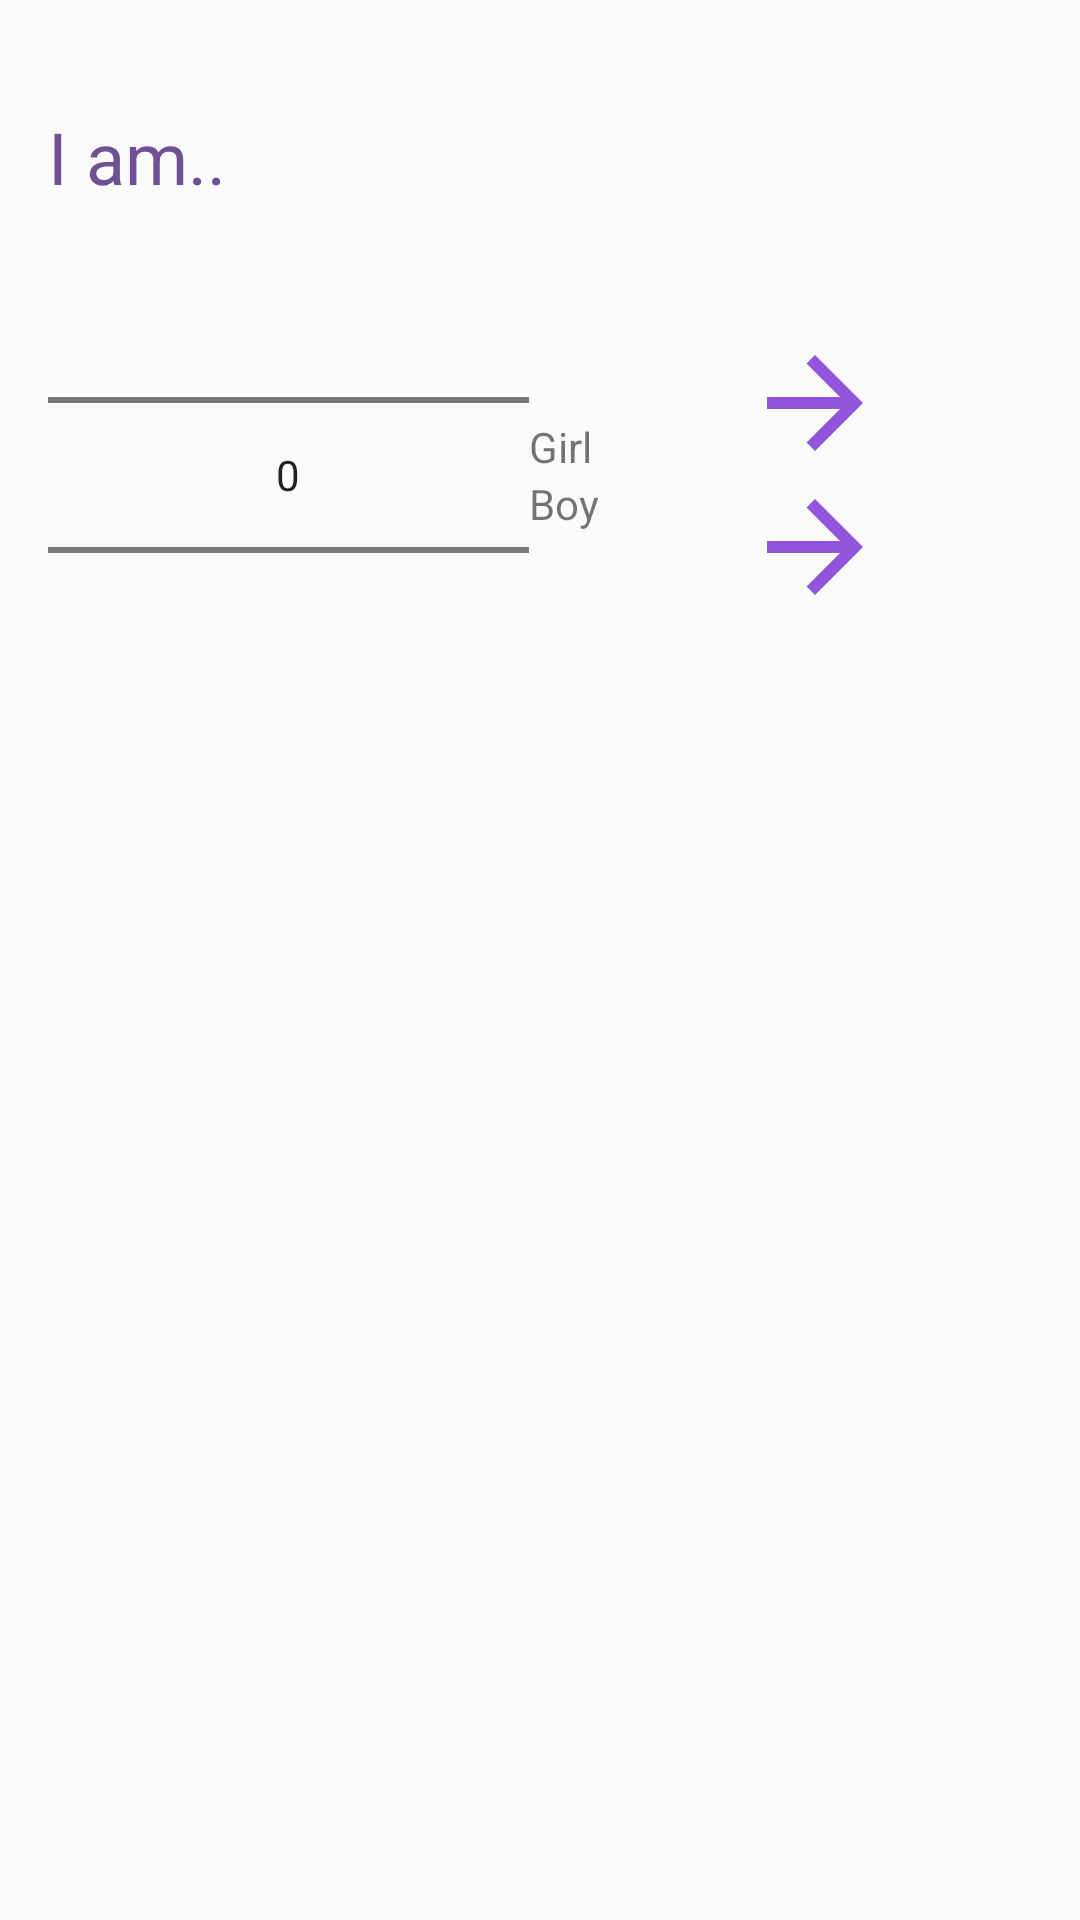

Locate icon controls on the screen. Image size 1080 x 1920, boxes as Rect(x1, y1, x2, y2).
arrow forward: Rect(767, 355, 863, 451), Rect(767, 499, 863, 595)
